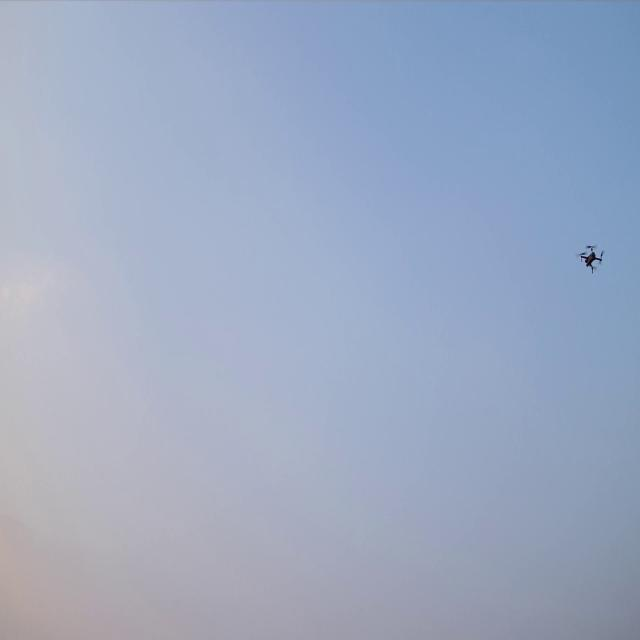UAV: (574, 241, 606, 274)
